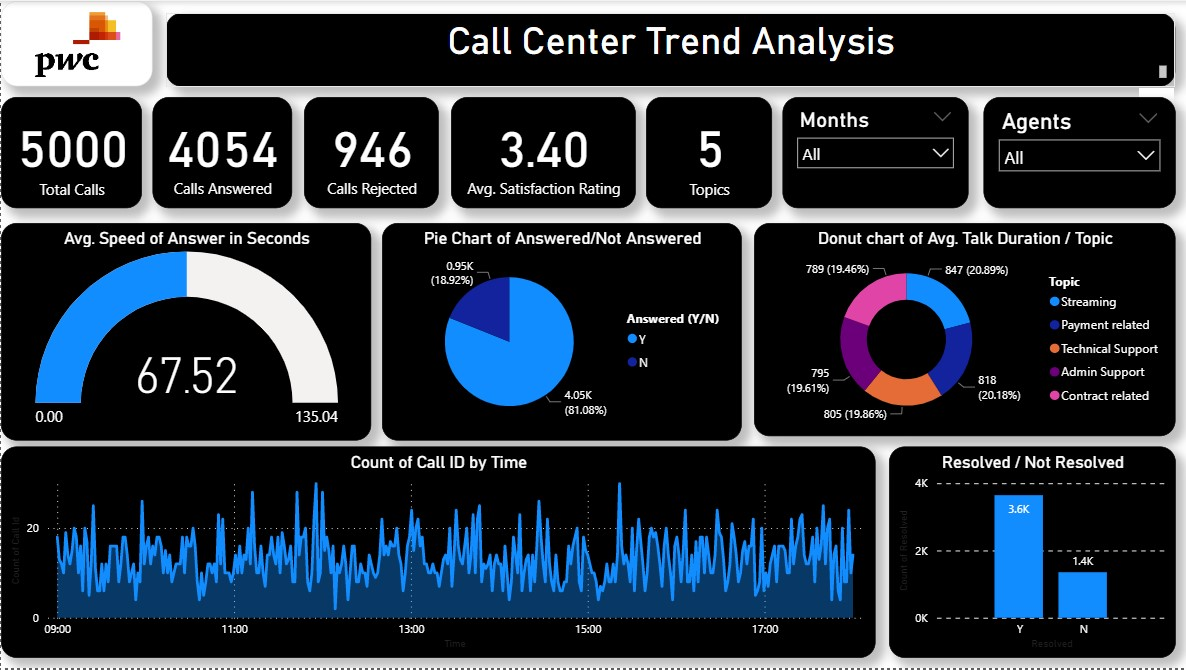

The page's visual inventory and layout, read from the dashboard file:
{"tool":"powerbi","page":{"name":"Call Center Trend Analysis","canvas":[1280,720],"ordinal":0},"visuals":[{"type":"textbox","title":"Call Center Trend Analysis","box":[178,12.9,1088.9,79.3],"z":0},{"type":"image","box":[0,0,163.4,92.2],"z":1000},{"type":"slicer","fields":{"Values":["Sheet1.Month"]},"box":[843,103.6,200.6,119.7],"z":2000},{"type":"slicer","fields":{"Values":["Sheet1.Agent"]},"box":[1059.8,103.6,207.1,119.7],"z":3000},{"type":"card","fields":{"Values":["CountNonNull(Sheet1.Call Id)"]},"box":[0,103.6,152.1,119.7],"z":4000},{"type":"card","fields":{"Values":["CountNonNull(Sheet1.Answered (Y/N))"]},"box":[163.4,103.6,150.5,119.7],"z":5000},{"type":"card","fields":{"Values":["CountNonNull(Sheet1.Answered (Y/N))"]},"box":[326.8,103.6,145.6,119.7],"z":6000},{"type":"card","fields":{"Values":["Avg(Sheet1.Satisfaction rating)"]},"box":[485.4,103.6,199,119.7],"z":7000},{"type":"gauge","title":"Avg. Speed of Answer in Seconds","fields":{"Y":["Avg(Sheet1.Speed of answer in seconds)"]},"box":[0,239.5,399.6,234.6],"z":8000},{"type":"pieChart","title":"Pie Chart of Answered/Not Answered","fields":{"Category":["Sheet1.Answered (Y/N)"],"Y":["CountNonNull(Sheet1.Answered (Y/N))"]},"box":[411,239.5,388.3,234.6],"z":9000},{"type":"donutChart","title":"Donut chart of Avg. Talk Duration / Topic","fields":{"Y":["CountNonNull(Sheet1.AvgTalkDuration)"],"Category":["Sheet1.Topic"]},"box":[812.2,239.5,454.7,229.8],"z":10000},{"type":"columnChart","title":"Resolved / Not Resolved","fields":{"Category":["Sheet1.Resolved"],"Y":["CountNonNull(Sheet1.Resolved)"]},"box":[957.8,480.5,309,228.1],"z":11000},{"type":"stackedAreaChart","title":"Count of Call ID by Time","fields":{"Y":["CountNonNull(Sheet1.Call Id)"],"Category":["Sheet1.Time"]},"box":[0,480.5,943.3,228.1],"z":12000},{"type":"card","fields":{"Values":["Count(Sheet1.Topic)"]},"box":[695.7,103.6,135.9,119.7],"z":13000}]}

Visuals, with their boxes in screenshot pixels (x1, y1, x2, y2), scaled from the page's 1280x720 canvas onto the 1186x670 screenshot:
"Call Center Trend Analysis" textbox: [x1=165, y1=12, x2=1174, y2=86]
image: [x1=0, y1=0, x2=151, y2=86]
slicer - Sheet1.Month: [x1=781, y1=96, x2=967, y2=208]
slicer - Sheet1.Agent: [x1=982, y1=96, x2=1174, y2=208]
card - CountNonNull(Sheet1.Call Id): [x1=0, y1=96, x2=141, y2=208]
card - CountNonNull(Sheet1.Answered (Y/N)): [x1=151, y1=96, x2=291, y2=208]
card - CountNonNull(Sheet1.Answered (Y/N)): [x1=303, y1=96, x2=438, y2=208]
card - Avg(Sheet1.Satisfaction rating): [x1=450, y1=96, x2=634, y2=208]
"Avg. Speed of Answer in Seconds" gauge: [x1=0, y1=223, x2=370, y2=441]
"Pie Chart of Answered/Not Answered" pieChart: [x1=381, y1=223, x2=741, y2=441]
"Donut chart of Avg. Talk Duration / Topic" donutChart: [x1=753, y1=223, x2=1174, y2=437]
"Resolved / Not Resolved" columnChart: [x1=887, y1=447, x2=1174, y2=659]
"Count of Call ID by Time" stackedAreaChart: [x1=0, y1=447, x2=874, y2=659]
card - Count(Sheet1.Topic): [x1=645, y1=96, x2=771, y2=208]
